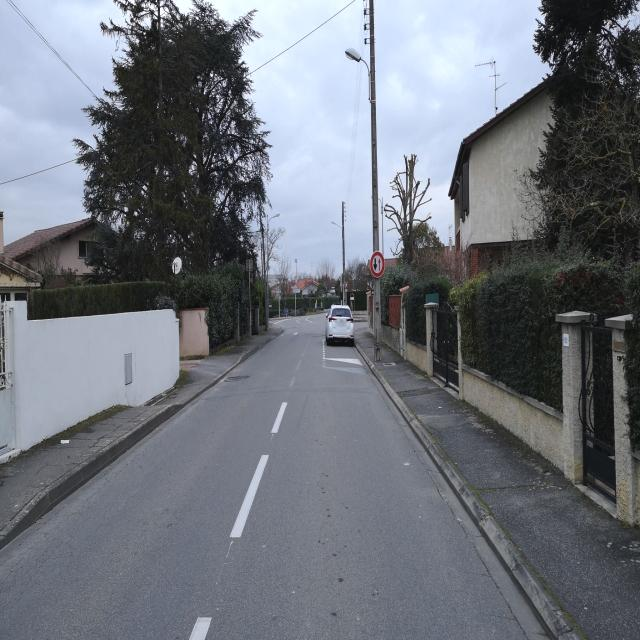car: (325, 303, 355, 345)
